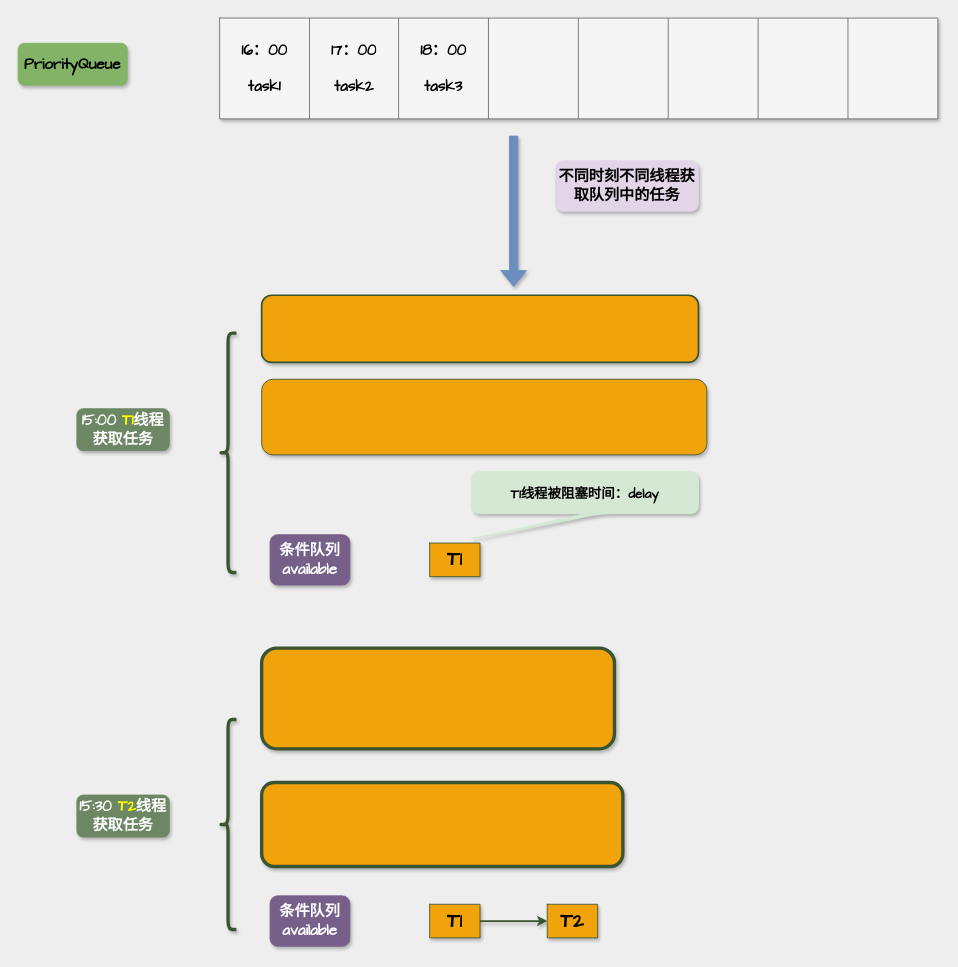
Image size: 958x967. Some labels were removed from this diagram. Each missing label, with the centre of its shape:
"delay = (16:00 -15:00)*3600*10 9 ns delay > 0没到执行任务时间，该线程被阻塞" goes at (480,330).
"delay = (16:00 -15:30)*3600*10 9 ns delay > 0没到执行任务时间，该线程被阻塞" goes at (438,699).
"此时leader=null，将T1设置成：leader = T1" goes at (484,418).
"此时：leader = T1，将T2放在条件队列中阻塞" goes at (442,825).
